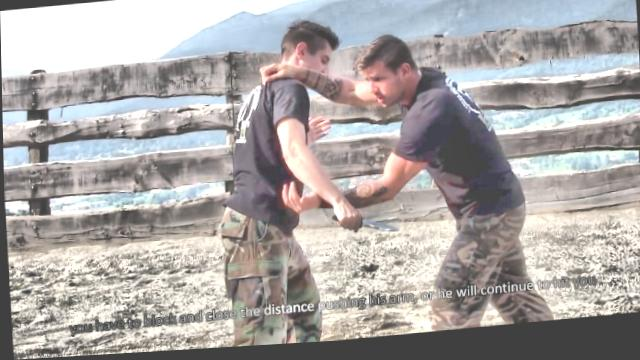knife: (325, 206, 403, 246)
